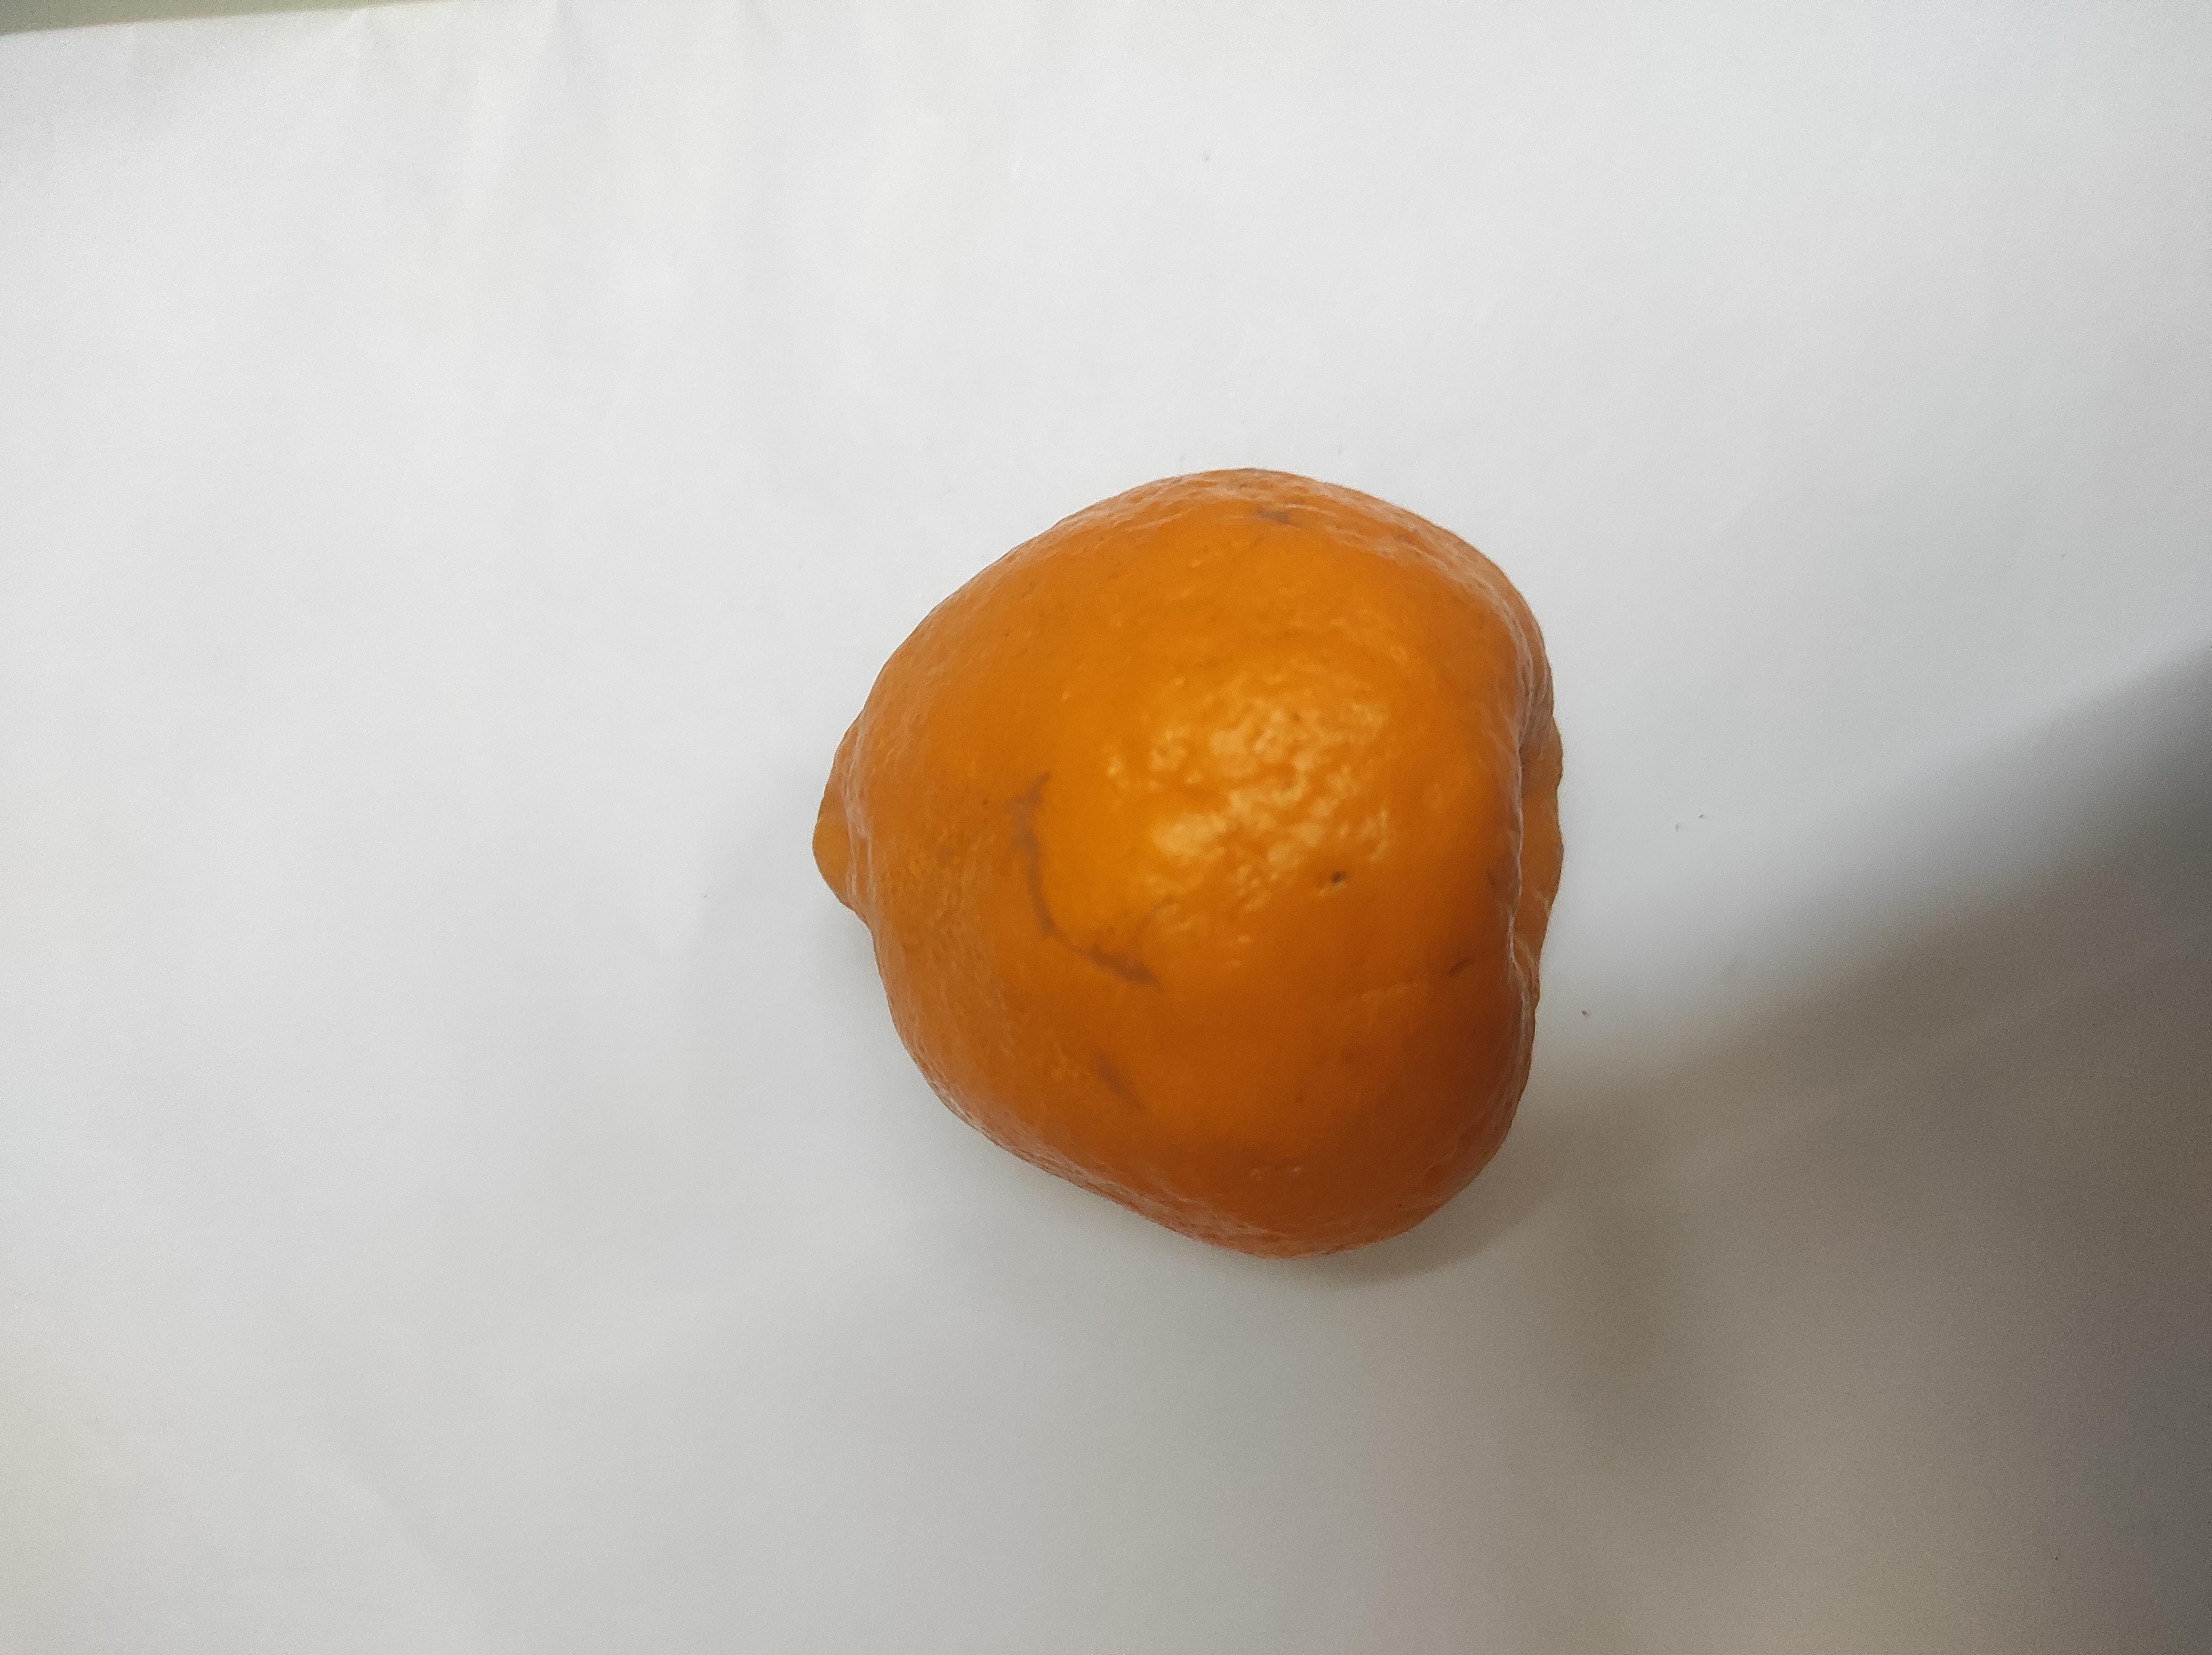Unripe: (816, 462, 1569, 1264)
